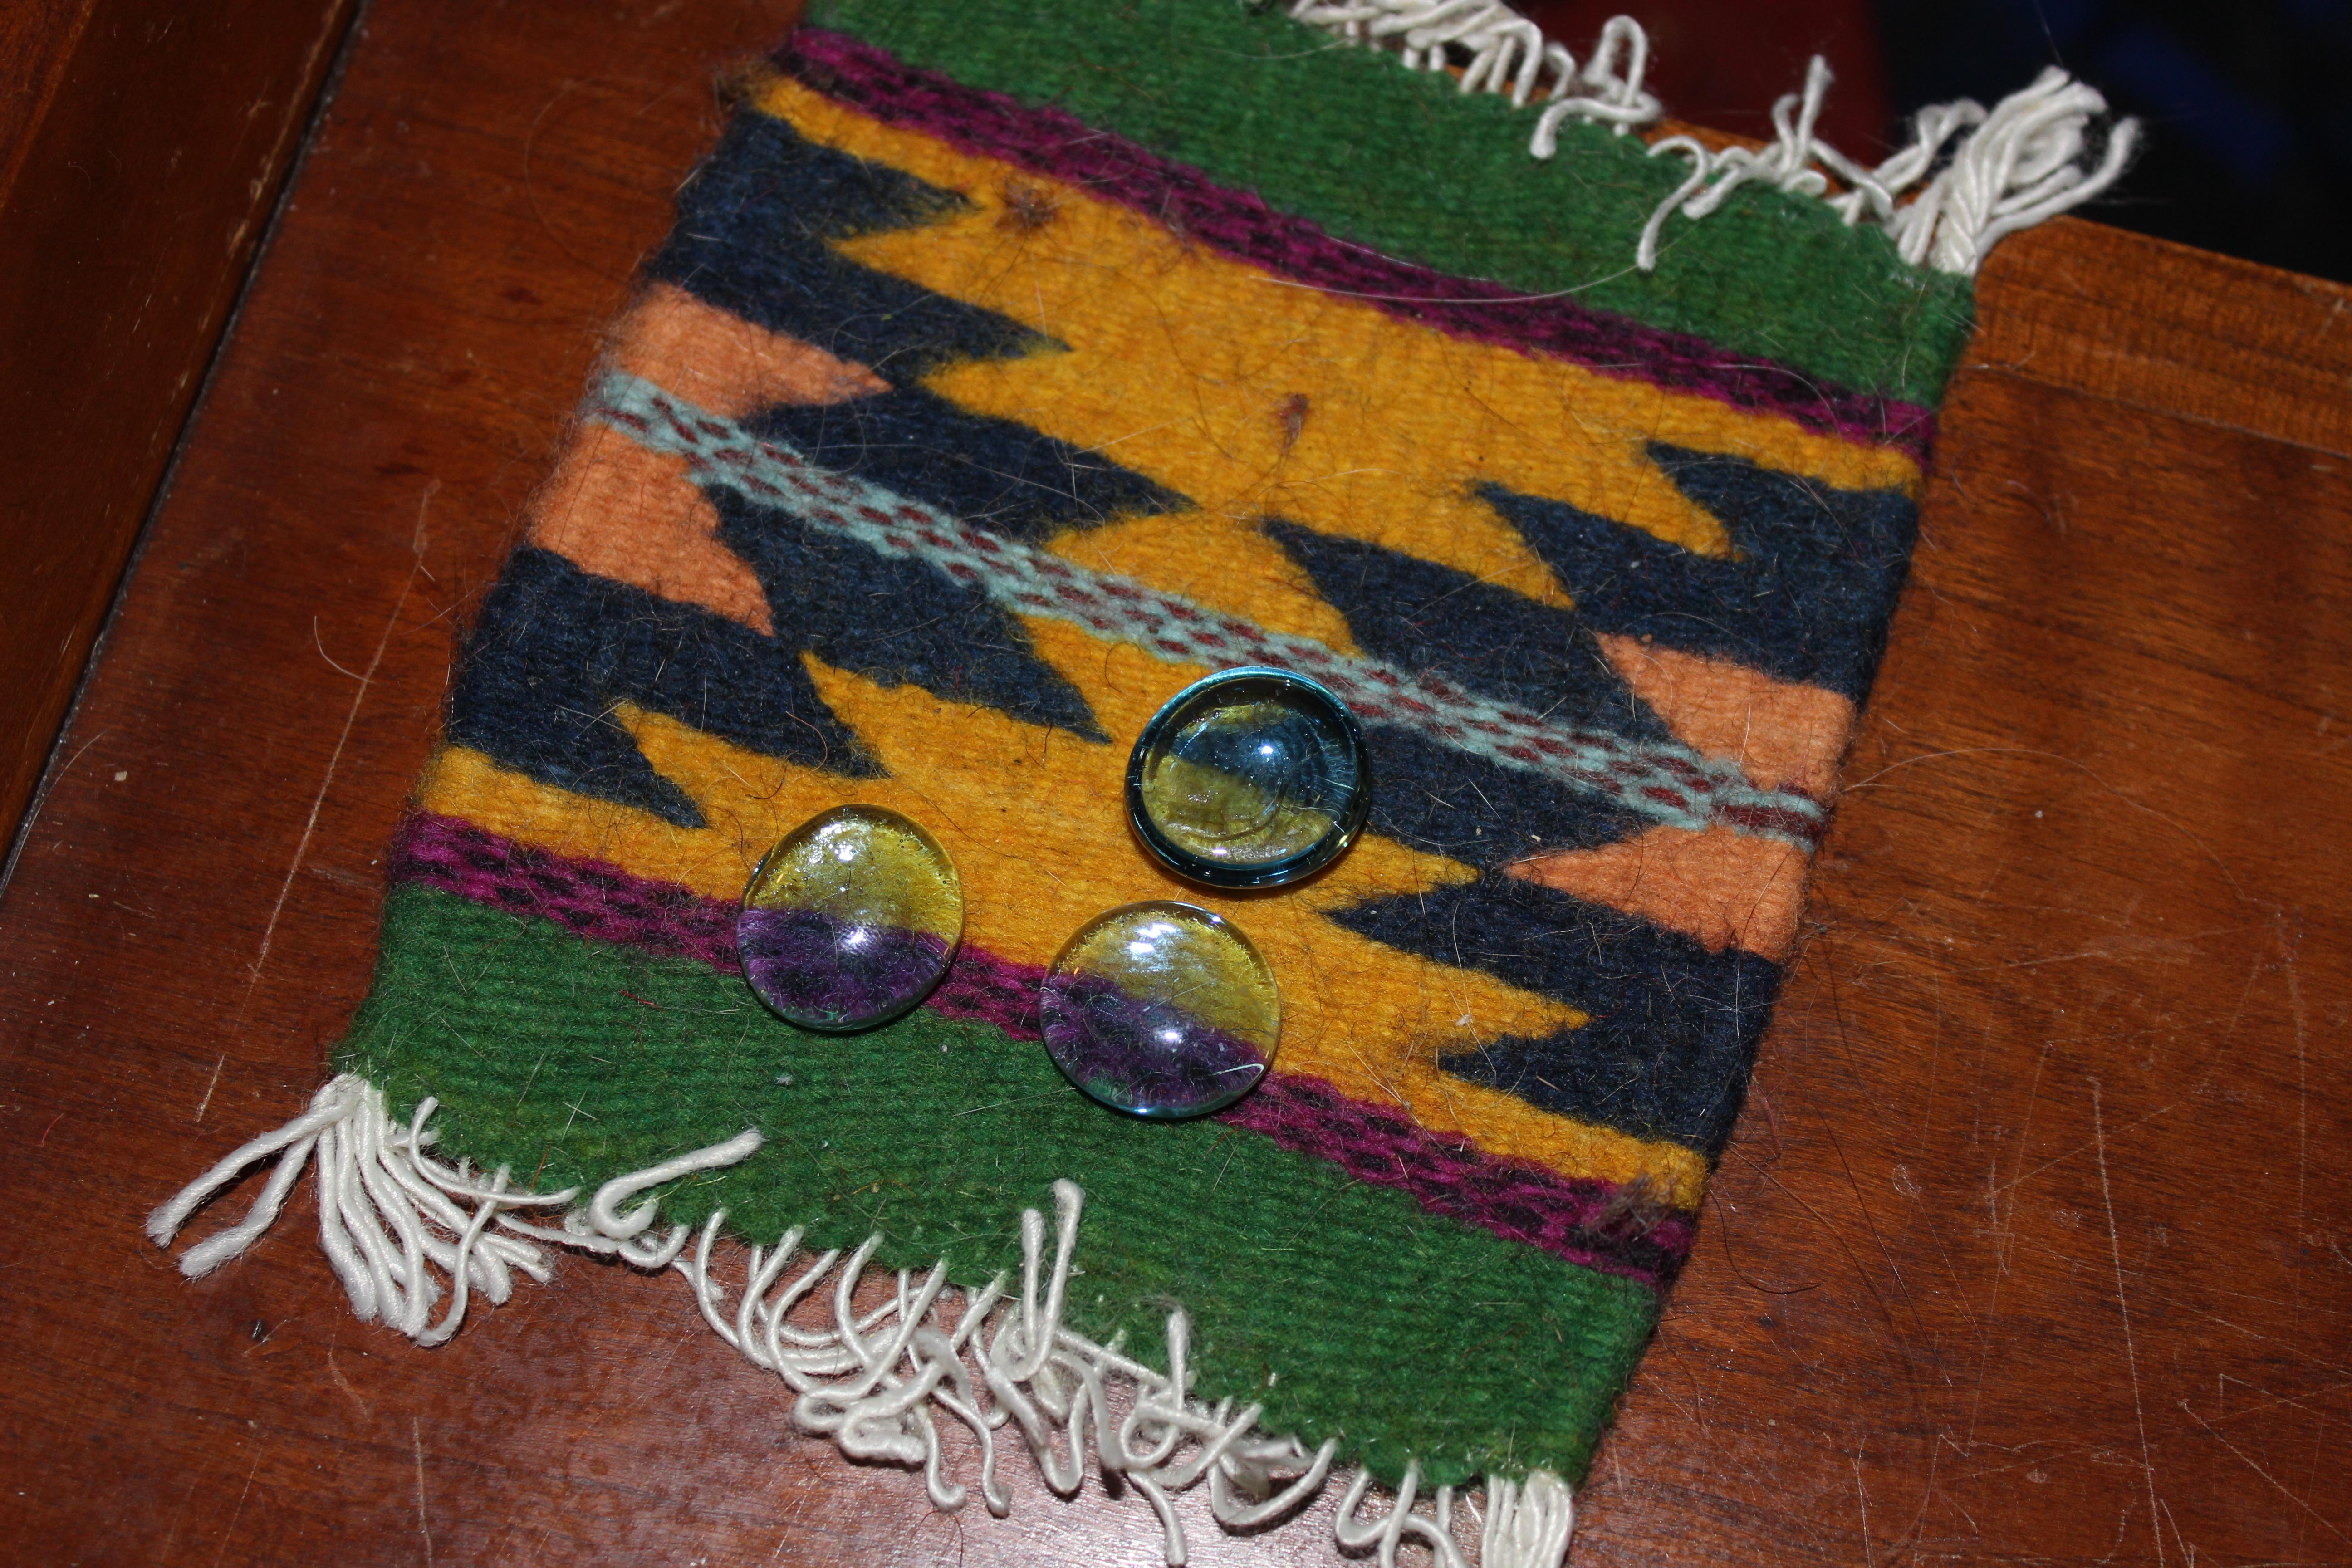glassBead: (1097, 644, 1393, 912), (1019, 877, 1291, 1141), (714, 788, 985, 1052)
